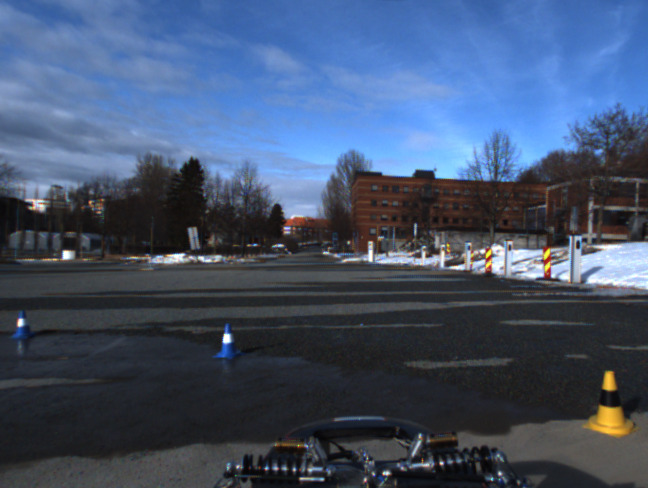cone-small-blue: (213, 323, 244, 360), (10, 310, 35, 339)
cone-small-yellow: (582, 370, 640, 437)
